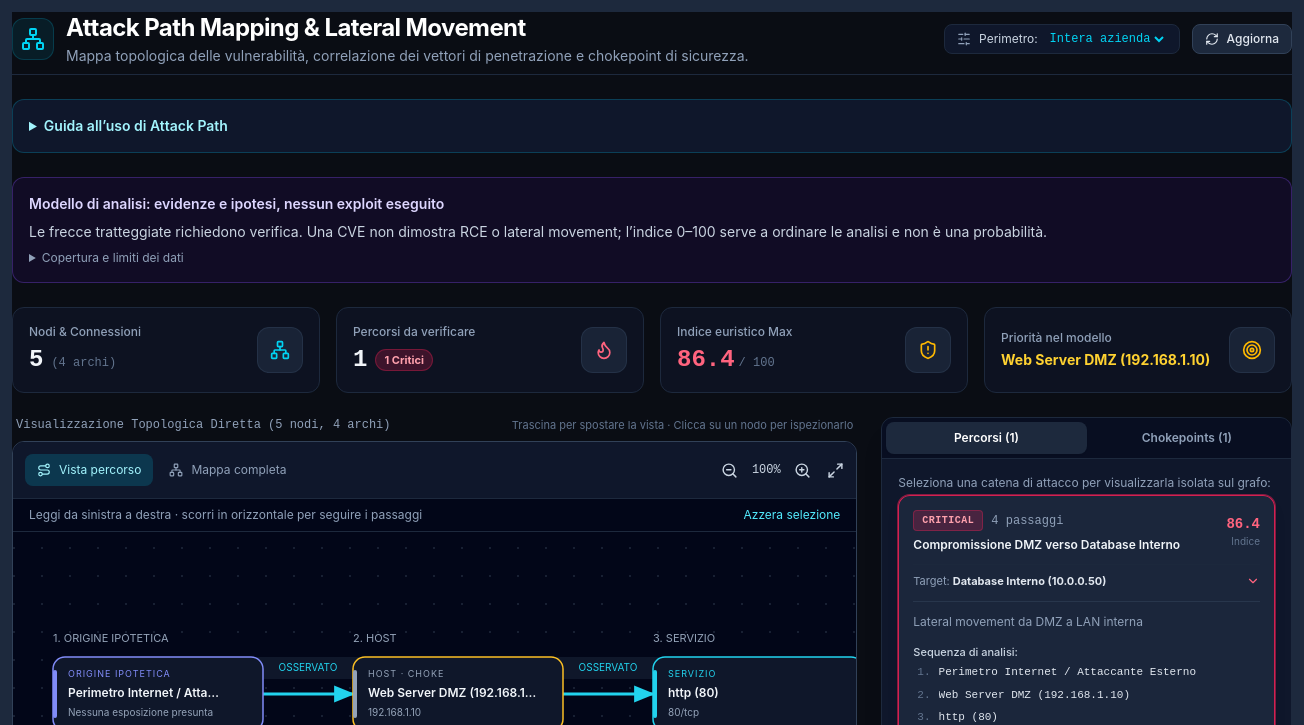
Test: AttackPath Page - Visual Graph Explorer & Chokepoints › supporta il click sul pulsante Focalizza per ispezionare il nodo selezionato
Check: the text "Chokepoints (1)" is shown, box [1142, 430, 1232, 446]
Click the button "Chokepoints (1)". click: (1187, 438)
box: [1087, 422, 1287, 454]
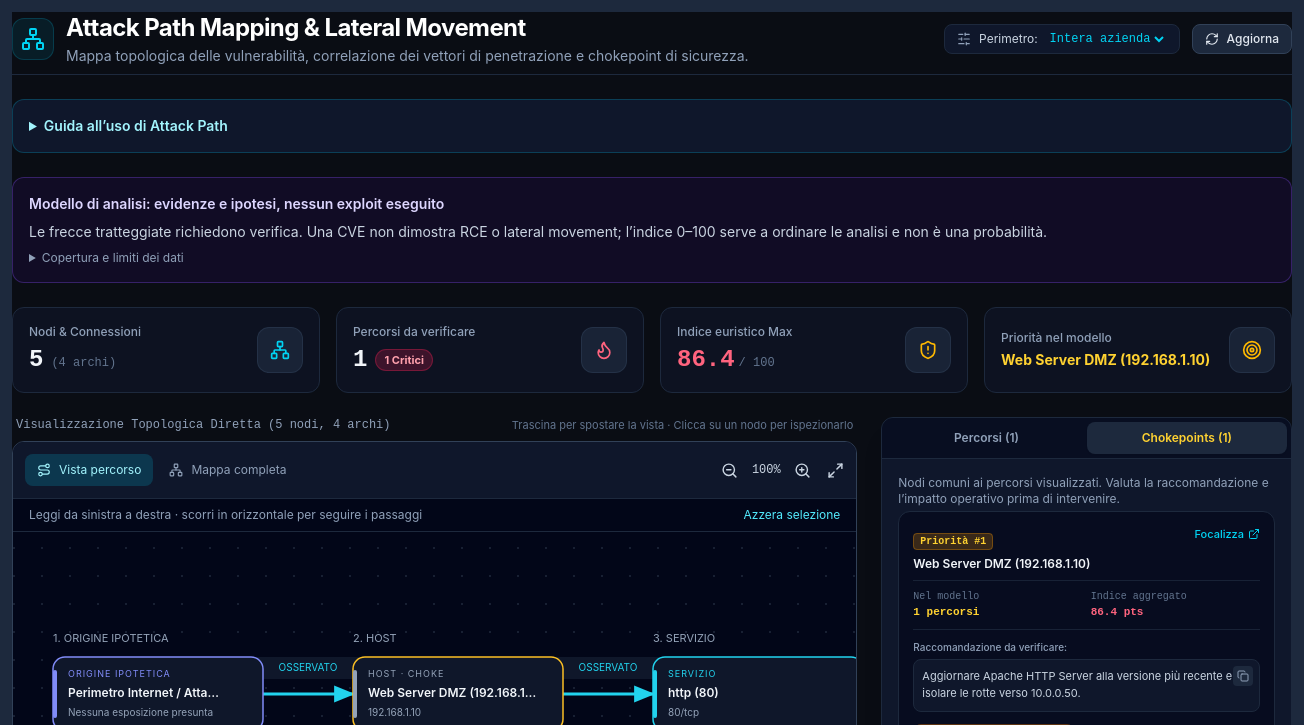
Click the button titled "Focalizza sul Grafo". click: (1227, 534)
box: [1194, 526, 1260, 542]
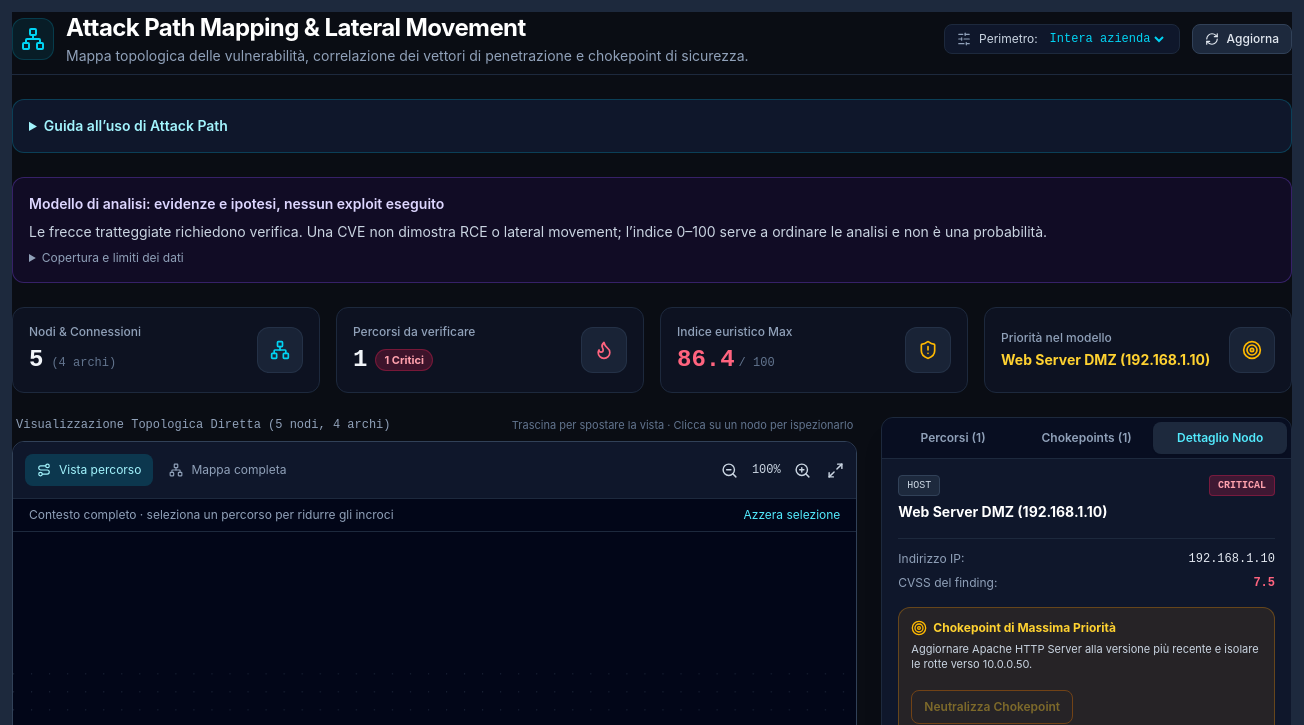
Check: the text "Dettaglio Nodo" is shown, box [1177, 430, 1263, 446]
Check: the text "Indirizzo IP:" is shown, box [898, 551, 964, 567]
Check: the text "Chokepoint di Massima Priorità" is shown, box [933, 620, 1116, 636]
